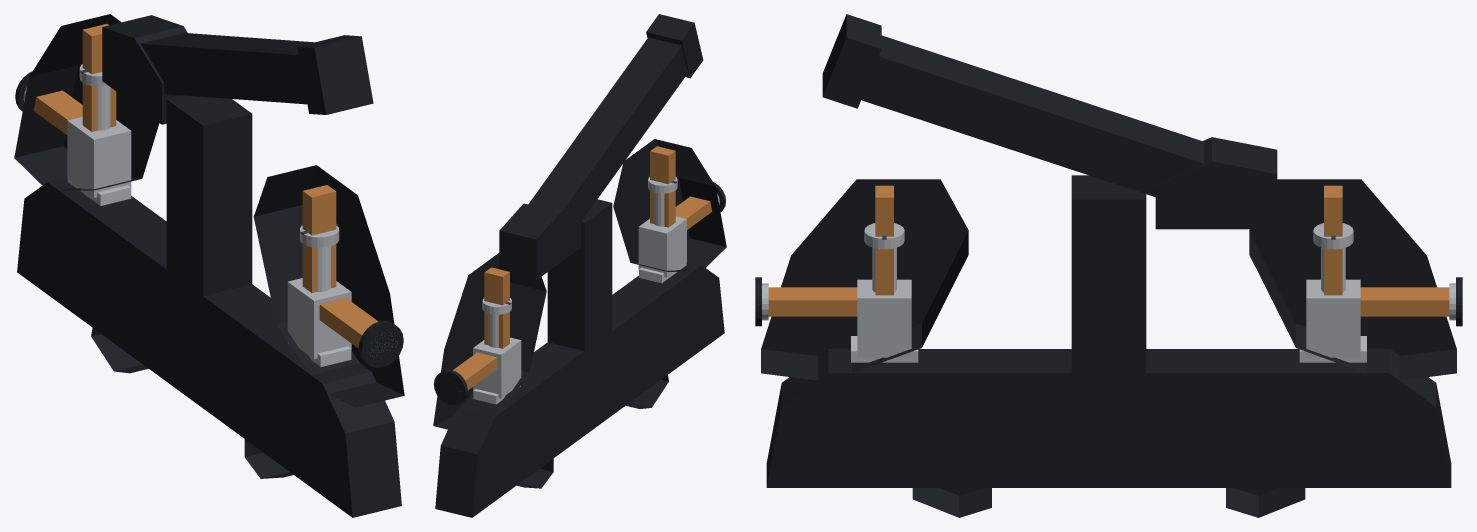
Rendered from ut-4-hesi-3046032.glb.
3 renders of one model, left to right at view 1: azimuth 30°, elevation 25°; view 2: azimuth 150°, elevation 25°; view 3: azimuth 270°, elevation 25°, orthographic. The views are drawn at different scales.
Visible parts, largest first — view 1: profile:ut4-hesi, spine:ut4-hesi, frame:ut4-hesi-left, carrier:ut4-hesi, frame:ut4-hesi-right, hinge-support:ut4-hesi, carrier-grip:ut4-hesi, clamp:ut4-hesi-right, clamp:ut4-hesi-left, current-path:ut4-hesi-left, current-path:ut4-hesi-right, entry-well:1.002 (+9 smaller); view 2: profile:ut4-hesi, carrier:ut4-hesi, spine:ut4-hesi, frame:ut4-hesi-right, frame:ut4-hesi-left, hinge-support:ut4-hesi, clamp:ut4-hesi-left, clamp:ut4-hesi-right, carrier-grip:ut4-hesi, current-path:ut4-hesi-left, current-path:ut4-hesi-right, entry-well:2.002 (+7 smaller); view 3: profile:ut4-hesi, carrier:ut4-hesi, frame:ut4-hesi-left, frame:ut4-hesi-right, spine:ut4-hesi, hinge-support:ut4-hesi, clamp:ut4-hesi-left, clamp:ut4-hesi-right, carrier-grip:ut4-hesi, conductor:ut4-hesi-left, conductor:ut4-hesi-right, current-path:ut4-hesi-left (+3 smaller).
Part boxes in pixels (x1=…): profile:ut4-hesi: x1=17, y1=177, x2=401, y2=517; spine:ut4-hesi: x1=166, y1=95, x2=252, y2=298; frame:ut4-hesi-left: x1=253, y1=165, x2=404, y2=407; carrier:ut4-hesi: x1=141, y1=33, x2=369, y2=104; frame:ut4-hesi-right: x1=14, y1=14, x2=159, y2=190; hinge-support:ut4-hesi: x1=102, y1=15, x2=187, y2=124; carrier-grip:ut4-hesi: x1=297, y1=35, x2=373, y2=114; clamp:ut4-hesi-right: x1=67, y1=117, x2=131, y2=197; clamp:ut4-hesi-left: x1=287, y1=278, x2=351, y2=359; current-path:ut4-hesi-left: x1=302, y1=185, x2=336, y2=292; current-path:ut4-hesi-right: x1=82, y1=24, x2=116, y2=131; entry-well:1.002: x1=358, y1=321, x2=403, y2=367; profile:ut4-hesi: x1=435, y1=262, x2=724, y2=517; carrier:ut4-hesi: x1=528, y1=37, x2=687, y2=221; spine:ut4-hesi: x1=547, y1=199, x2=612, y2=353; frame:ut4-hesi-right: x1=433, y1=253, x2=546, y2=434; frame:ut4-hesi-left: x1=613, y1=139, x2=726, y2=271; hinge-support:ut4-hesi: x1=499, y1=203, x2=581, y2=280; clamp:ut4-hesi-left: x1=638, y1=216, x2=686, y2=277; clamp:ut4-hesi-right: x1=473, y1=337, x2=521, y2=398; carrier-grip:ut4-hesi: x1=646, y1=14, x2=703, y2=78; current-path:ut4-hesi-left: x1=650, y1=146, x2=675, y2=227; current-path:ut4-hesi-right: x1=484, y1=267, x2=509, y2=348; entry-well:2.002: x1=434, y1=369, x2=467, y2=405; profile:ut4-hesi: x1=766, y1=349, x2=1451, y2=487; carrier:ut4-hesi: x1=861, y1=35, x2=1204, y2=197; frame:ut4-hesi-left: x1=761, y1=179, x2=968, y2=380; frame:ut4-hesi-right: x1=1249, y1=179, x2=1456, y2=380; spine:ut4-hesi: x1=1071, y1=175, x2=1146, y2=376; hinge-support:ut4-hesi: x1=1155, y1=137, x2=1277, y2=229; clamp:ut4-hesi-left: x1=857, y1=279, x2=911, y2=357; clamp:ut4-hesi-right: x1=1306, y1=279, x2=1360, y2=357; carrier-grip:ut4-hesi: x1=822, y1=14, x2=881, y2=108; conductor:ut4-hesi-left: x1=768, y1=287, x2=857, y2=316; conductor:ut4-hesi-right: x1=1360, y1=287, x2=1449, y2=316; current-path:ut4-hesi-left: x1=875, y1=185, x2=893, y2=295.
Bounding box in the file's own units: 0.0062 × 0.0568 × 0.0756.
